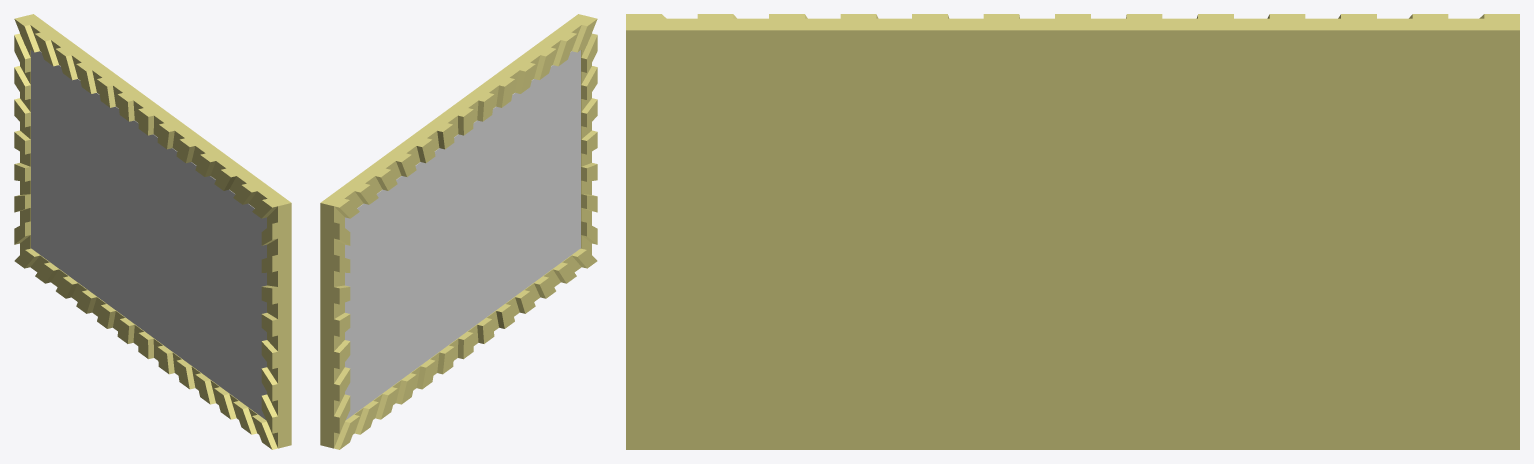
Rendered from Frame.fbx.
3 renders of one model, left to right at view 1: azimuth 30°, elevation 25°; view 2: azimuth 150°, elevation 25°; view 3: azimuth 270°, elevation 25°, orthographic. The views are drawn at different scales.
Visible parts, largest first — view 1: Cube.077, Cube.075; view 2: Cube.077, Cube.075; view 3: Cube.075.
Part boxes in pixels (left/top/right/bottom): Cube.077: left=31, top=50, right=266, bottom=419; Cube.075: left=14, top=14, right=291, bottom=449; Cube.077: left=345, top=50, right=580, bottom=419; Cube.075: left=320, top=14, right=597, bottom=449; Cube.075: left=626, top=14, right=1519, bottom=449.
Bounding box in the file's own units: 4.82 × 57.69 × 111.
